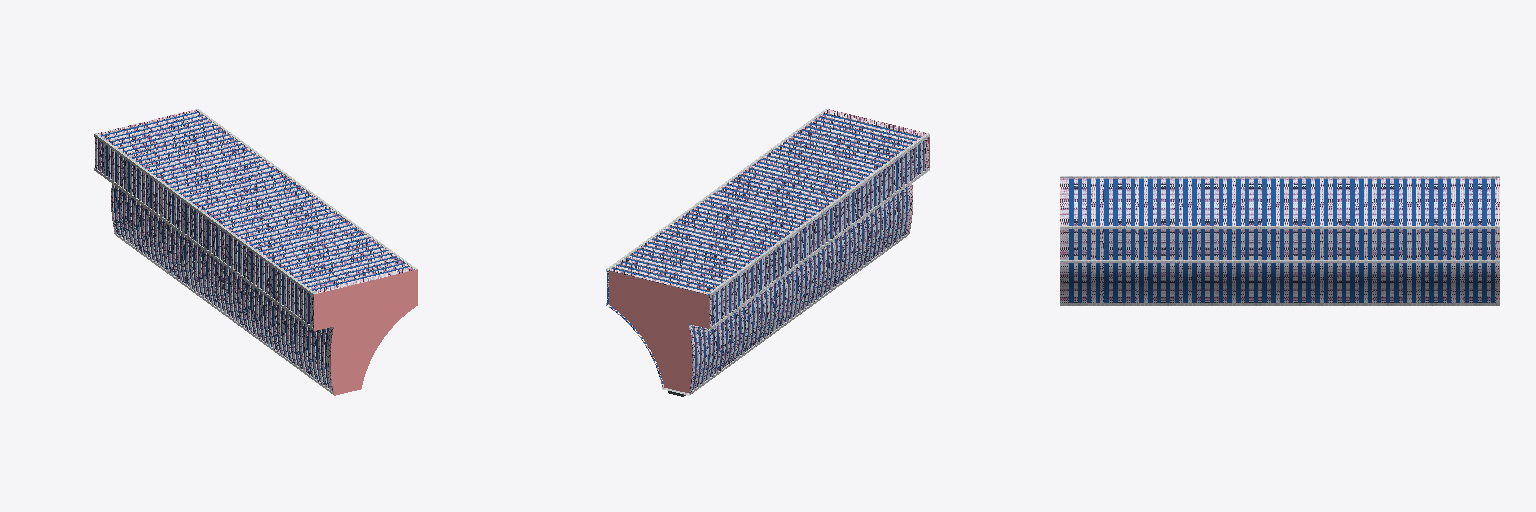
3 views of the same model, side by side, from view 1: azimuth 30°, elevation 25°; view 2: azimuth 150°, elevation 25°; view 3: azimuth 270°, elevation 25° (orthographic).
Visible parts, largest first — view 1: wall_01, glass_01, wall_03, slab_02, wall_1_01, wall_02; view 2: wall_01, glass_01, wall_03, slab_02, wall_1_01, wall_02; view 3: wall_01, glass_01, wall_1_01, wall_02.
Part boxes in pixels (left/top/right/bottom): wall_01: left=95, top=109, right=407, bottom=387; glass_01: left=98, top=112, right=408, bottom=387; wall_03: left=97, top=111, right=406, bottom=387; slab_02: left=314, top=269, right=417, bottom=395; wall_1_01: left=94, top=109, right=416, bottom=394; wall_02: left=310, top=267, right=413, bottom=392; wall_01: left=607, top=114, right=922, bottom=392; glass_01: left=607, top=114, right=923, bottom=389; wall_03: left=609, top=113, right=924, bottom=392; slab_02: left=609, top=109, right=929, bottom=392; wall_1_01: left=606, top=109, right=929, bottom=395; wall_02: left=824, top=109, right=928, bottom=234; wall_01: left=1074, top=178, right=1499, bottom=302; glass_01: left=1069, top=179, right=1494, bottom=302; wall_1_01: left=1060, top=176, right=1499, bottom=305; wall_02: left=1060, top=178, right=1068, bottom=302.
Size of the model in its own units: 1634 by 1642 by 6002.
5 materials, 2 textured.